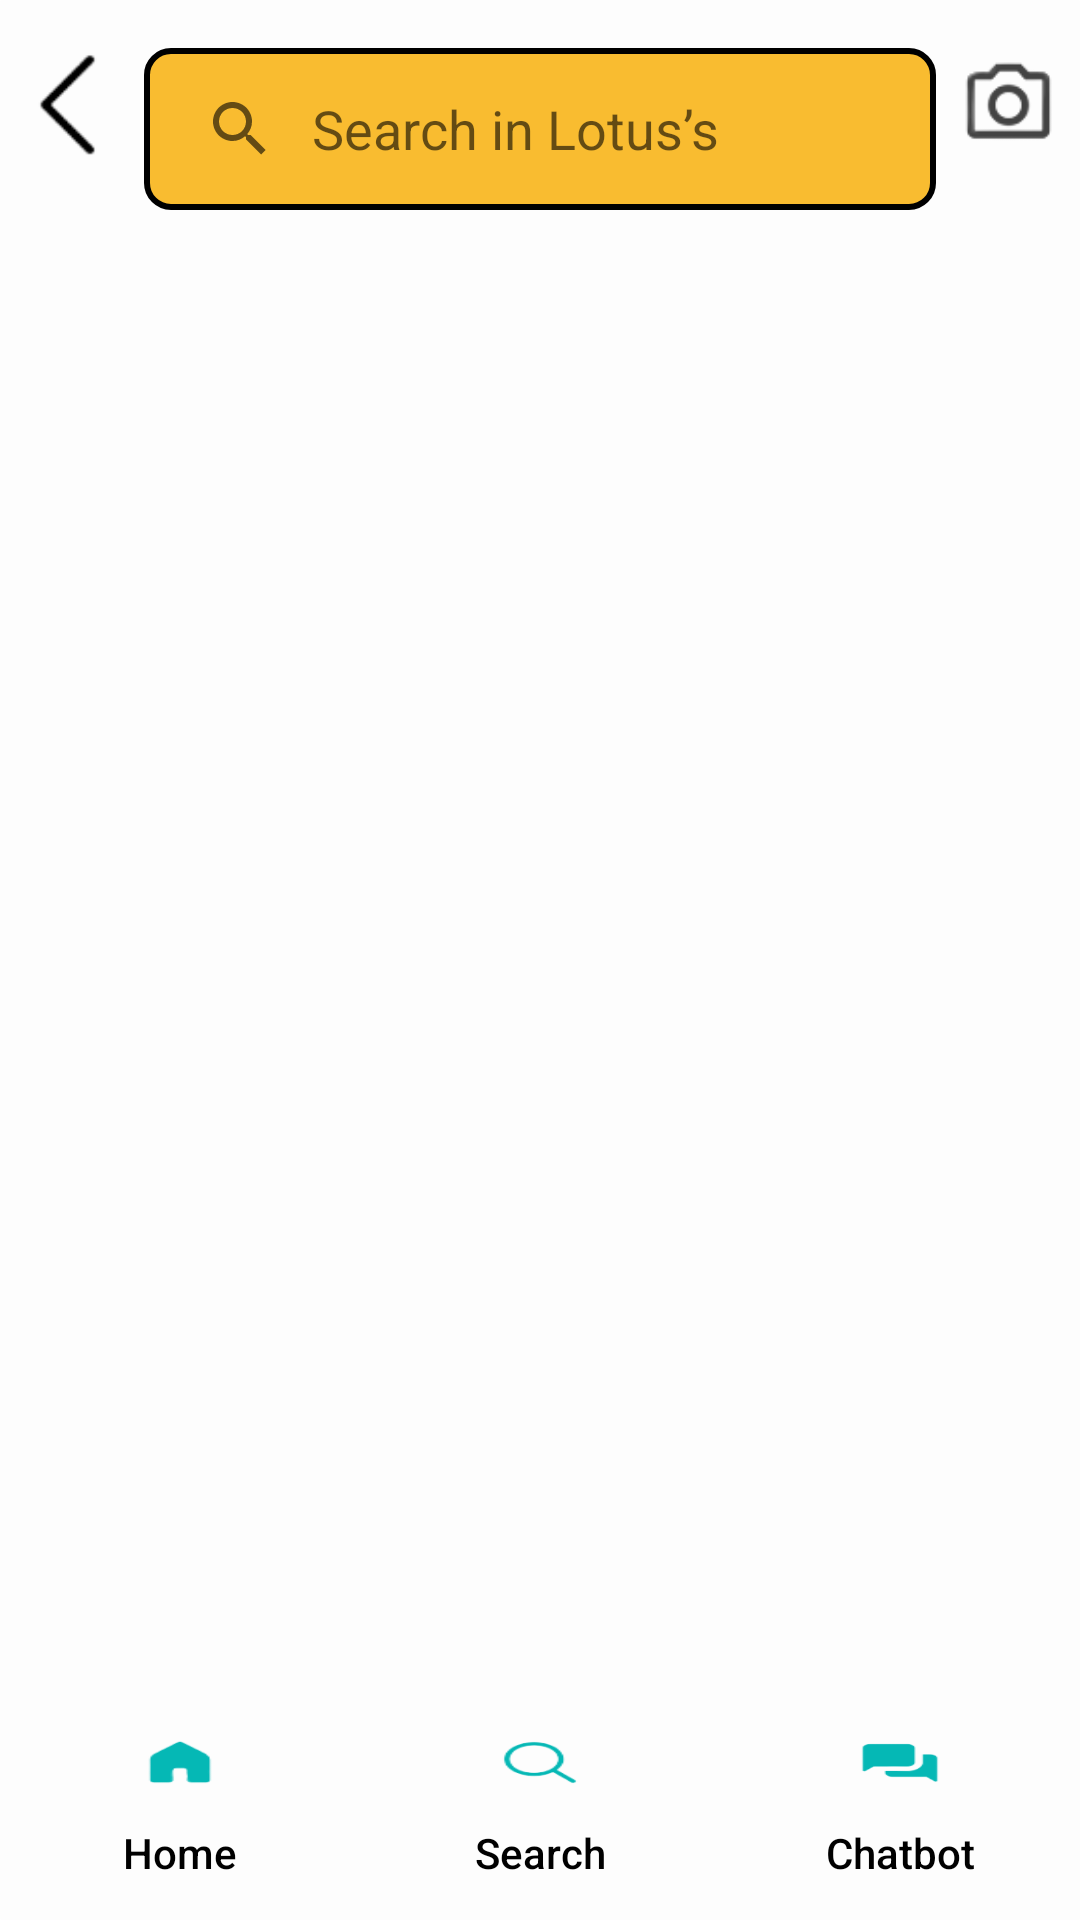

Where to tap for icons on this 1080 × 1920 app screen, as point (x, y):
Back: point (67, 105)
Camera: point (1008, 101)
